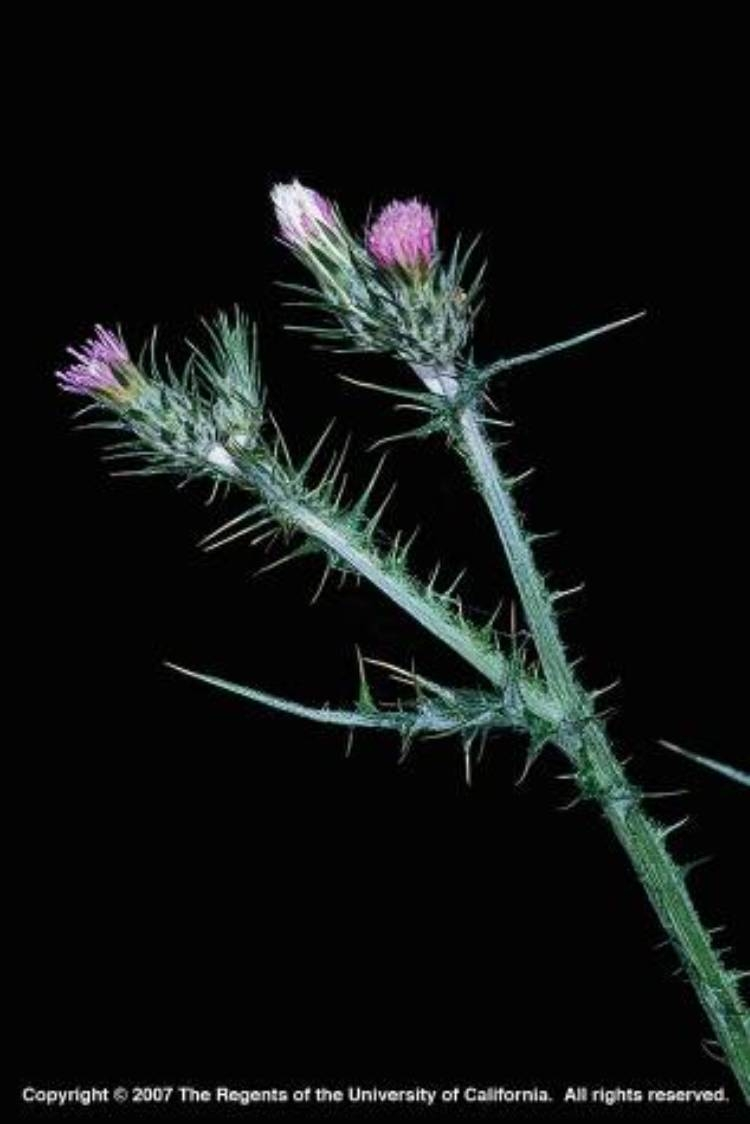thistle: (36, 335, 222, 487), (338, 196, 493, 374)
